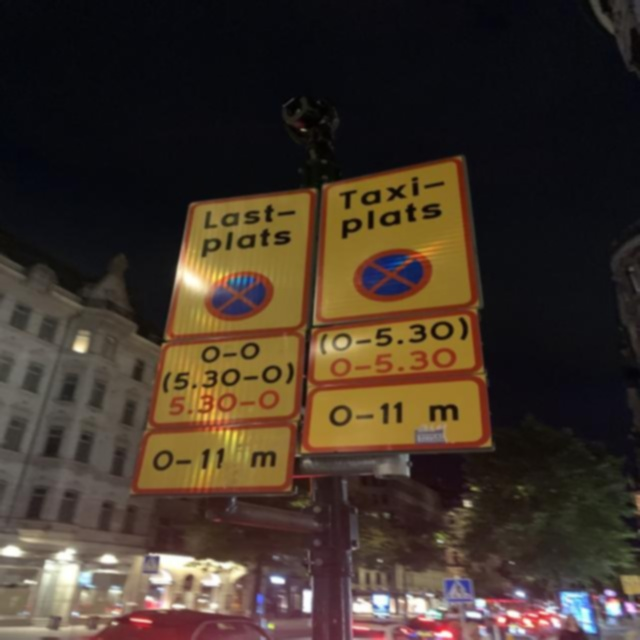lastplats: (162, 186, 321, 340)
